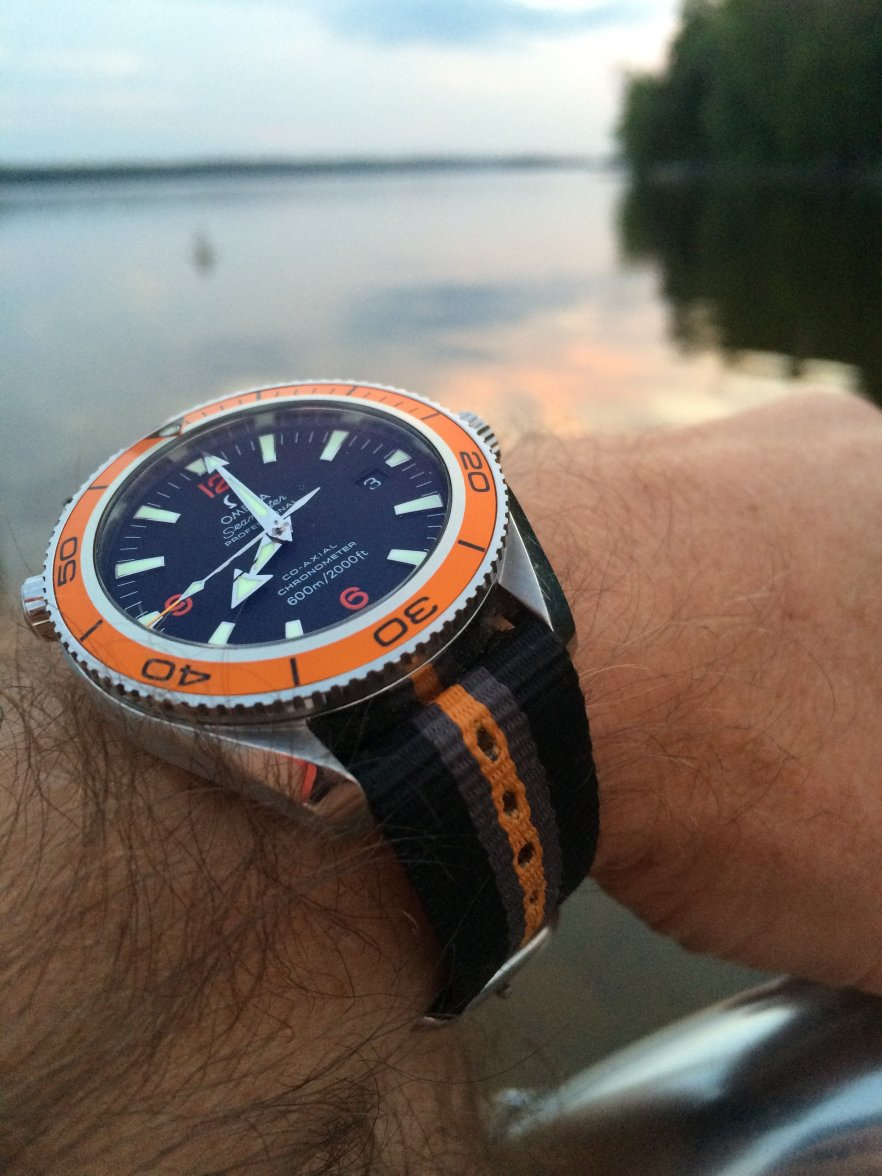clock: (46, 378, 509, 713)
